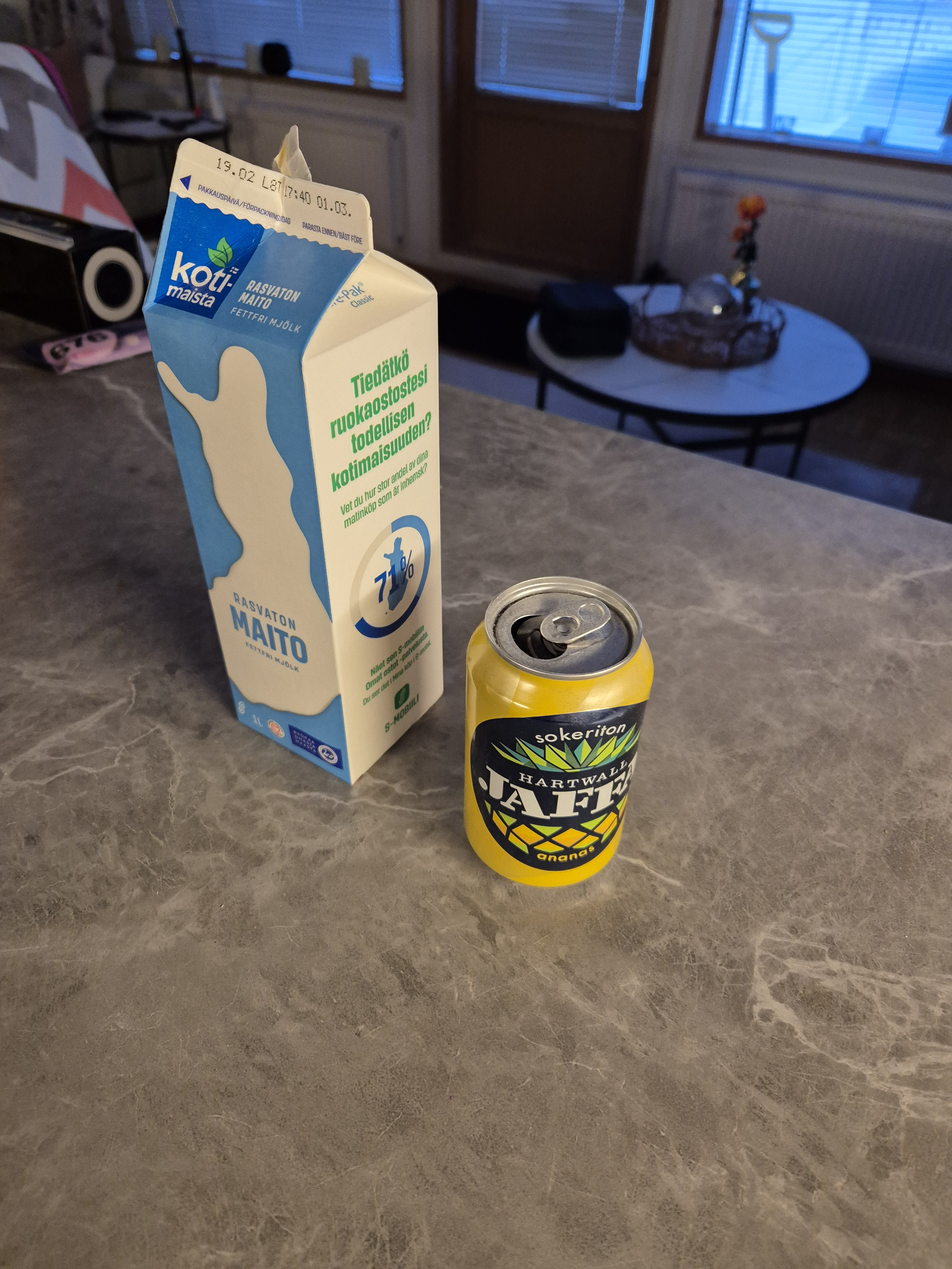Konservburk: (141, 125, 447, 785)
Pantburk: (461, 574, 656, 891)
